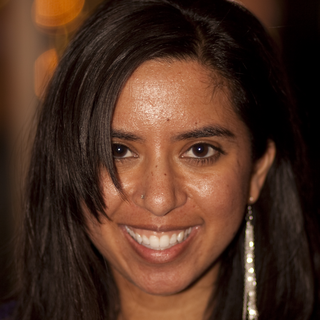eye: (176, 133, 229, 166), (98, 133, 147, 166)
